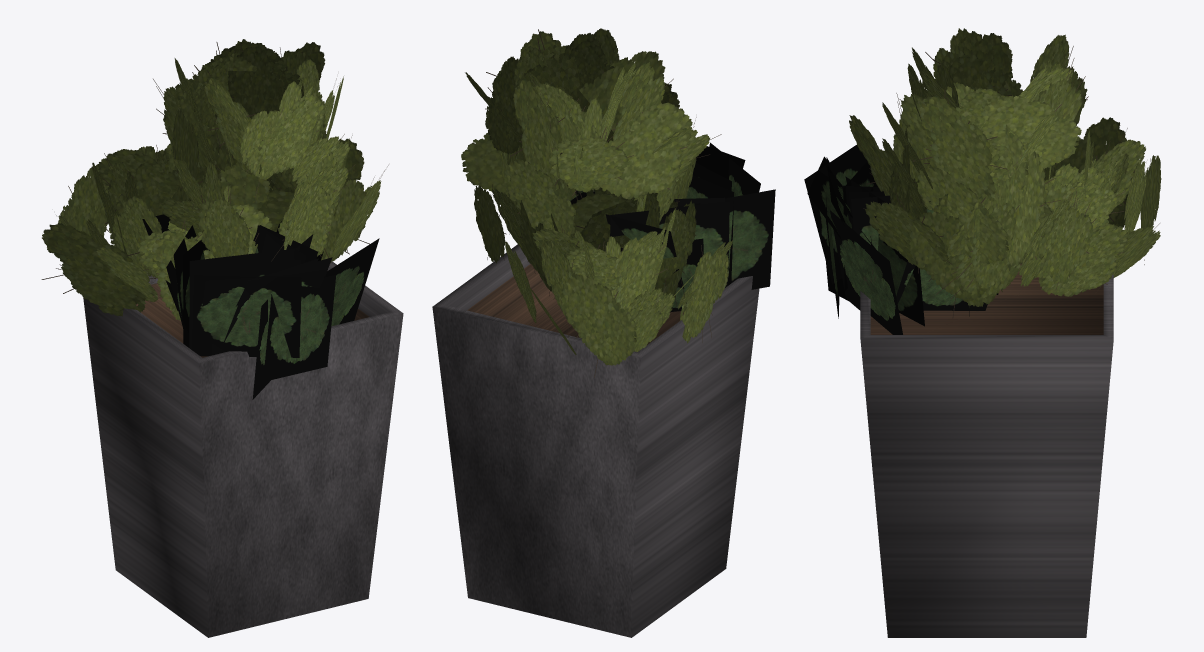
Rendered from SM_Morin_Fioriera.fbx.
3 renders of one model, left to right at view 1: azimuth 30°, elevation 25°; view 2: azimuth 150°, elevation 25°; view 3: azimuth 270°, elevation 25°, orthographic. The views are drawn at different scales.
Visible parts, largest first — view 1: SM_Morin_Fioriera; view 2: SM_Morin_Fioriera; view 3: SM_Morin_Fioriera.
Boxes of the visible parts, bbox=[...] form: SM_Morin_Fioriera: bbox=[41, 39, 403, 637]; SM_Morin_Fioriera: bbox=[432, 28, 775, 637]; SM_Morin_Fioriera: bbox=[804, 28, 1161, 637].
Size of what is drawn, in the model's own units: 115 by 113 by 178.
3 materials, 3 textured.
